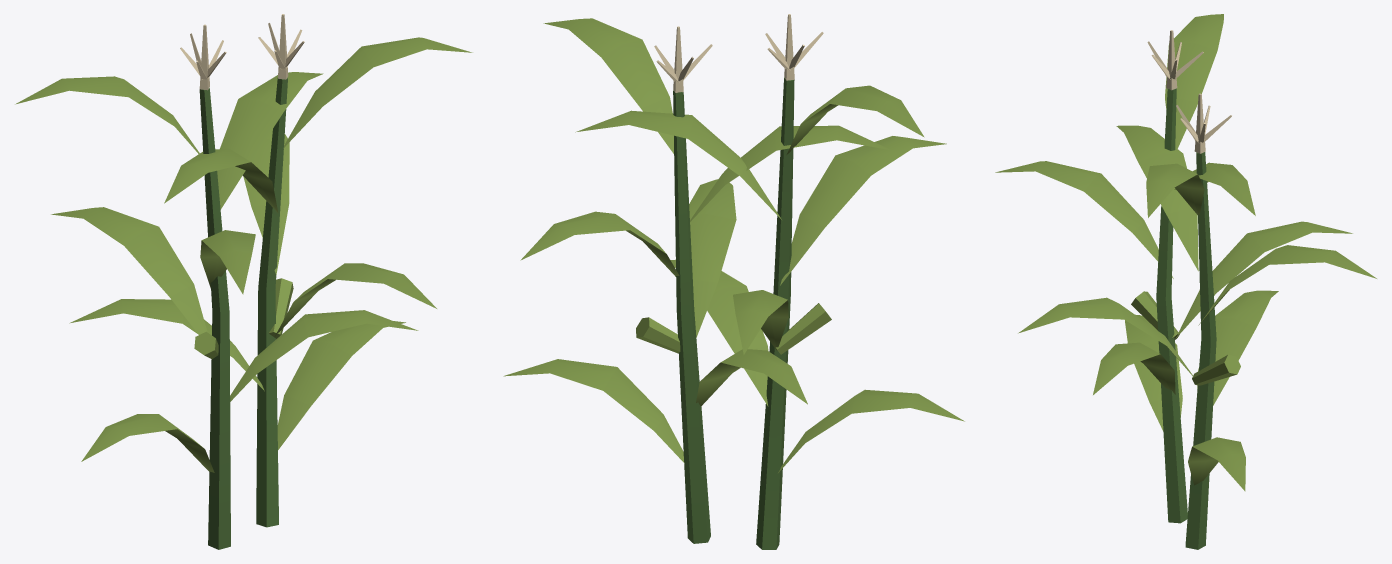
The model's file is crop_corn_growing.glb.
3 views of the same model, side by side, from view 1: azimuth 30°, elevation 25°; view 2: azimuth 150°, elevation 25°; view 3: azimuth 270°, elevation 25° (orthographic). The views are drawn at different scales.
Visible parts, largest first — view 1: corn_ear_00_0_husk, corn_stalk_00, corn_tassel_00_branch_0; view 2: corn_ear_00_0_husk, corn_stalk_00, corn_tassel_00_branch_0; view 3: corn_ear_00_0_husk, corn_stalk_00, corn_tassel_00_branch_0.
Part boxes in pixels (box(x1,y1,x2,y2)): corn_ear_00_0_husk: box(15, 37, 472, 472); corn_stalk_00: box(199, 78, 287, 549); corn_tassel_00_branch_0: box(180, 14, 304, 90); corn_ear_00_0_husk: box(503, 18, 964, 472); corn_stalk_00: box(673, 77, 794, 549); corn_tassel_00_branch_0: box(654, 14, 823, 92); corn_ear_00_0_husk: box(995, 14, 1376, 491); corn_stalk_00: box(1156, 88, 1216, 549); corn_tassel_00_branch_0: box(1147, 30, 1231, 153).
Bounding box in the file's own units: 1.11 × 1.34 × 0.9692.
